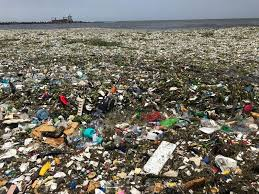garbage: (4, 39, 259, 193)
